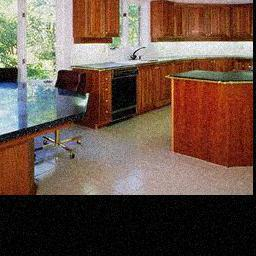Electrodomestico: (111, 66, 139, 122)
